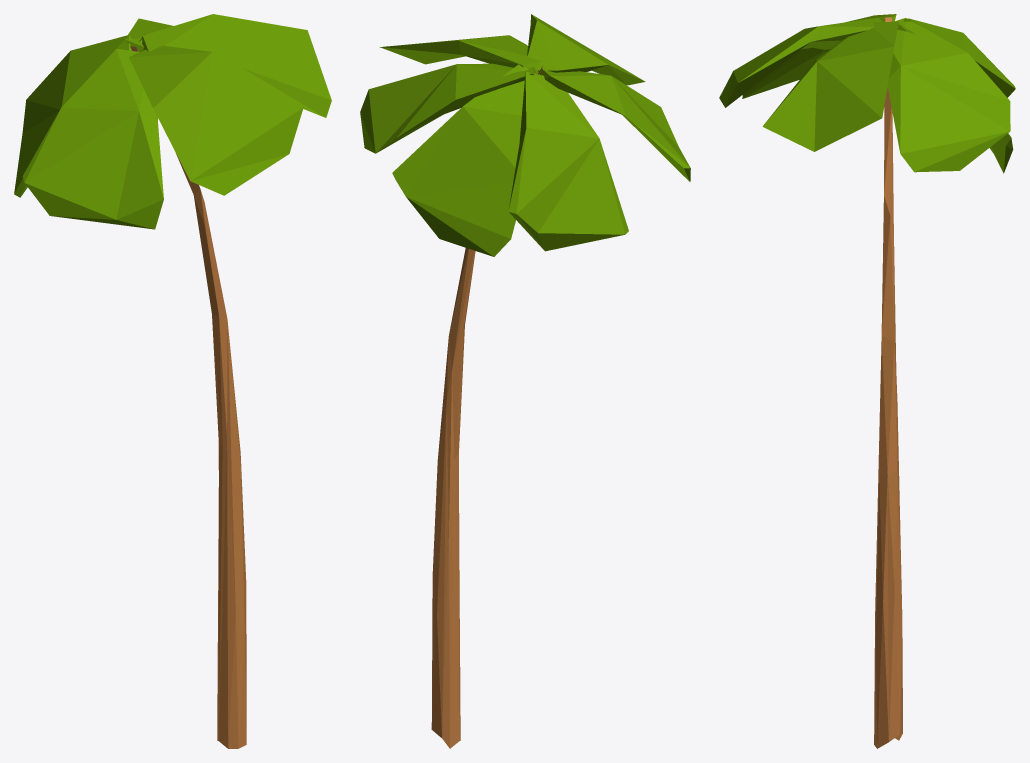
Rendered from nature_palmtree.fbx.
3 views of the same model, side by side, from view 1: azimuth 30°, elevation 25°; view 2: azimuth 150°, elevation 25°; view 3: azimuth 270°, elevation 25° (orthographic). The views are drawn at different scales.
Parts seen in each view (by area): view 1: Cylinder.001; view 2: Cylinder.001; view 3: Cylinder.001.
Boxes of the visible parts, x1=… form: Cylinder.001: x1=14, y1=14, x2=331, y2=748; Cylinder.001: x1=360, y1=14, x2=690, y2=748; Cylinder.001: x1=719, y1=14, x2=1015, y2=748.
Size of the model in its own units: 182 by 417 by 162.
